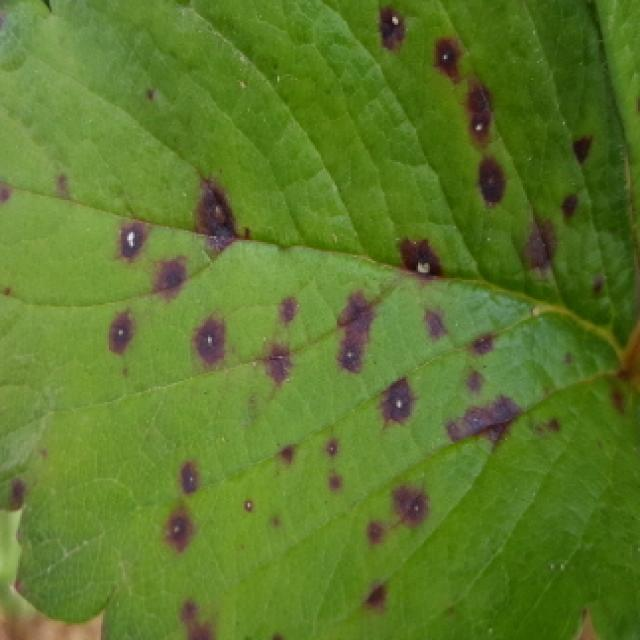Leaf Spot: (0, 0, 640, 640)
